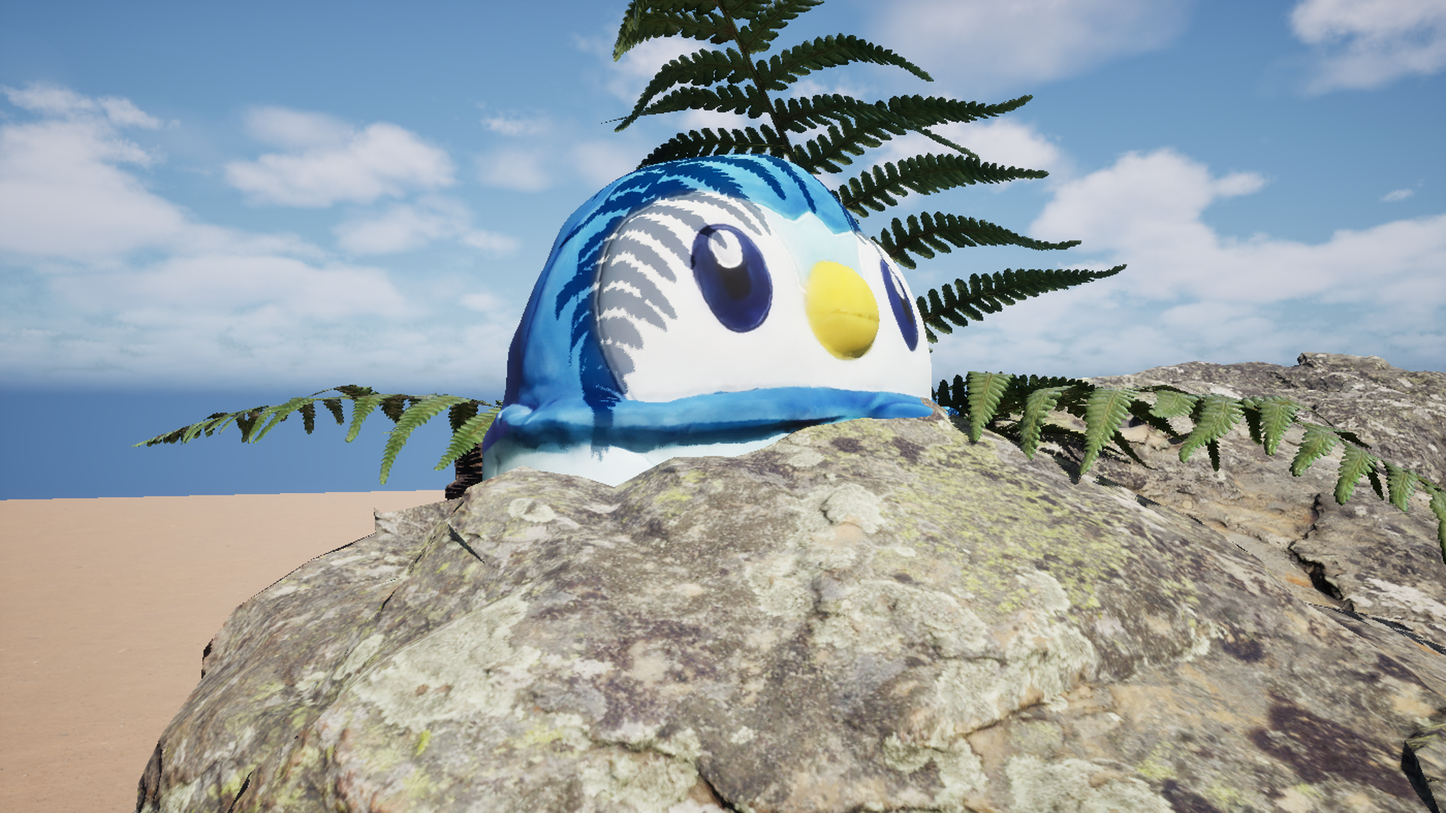Piplup: (278, 0, 1226, 813)
